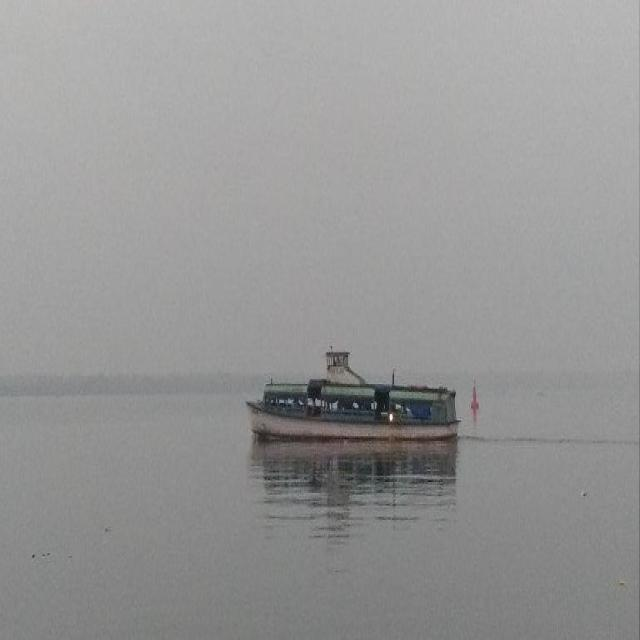fishing boat: (237, 321, 470, 448)
